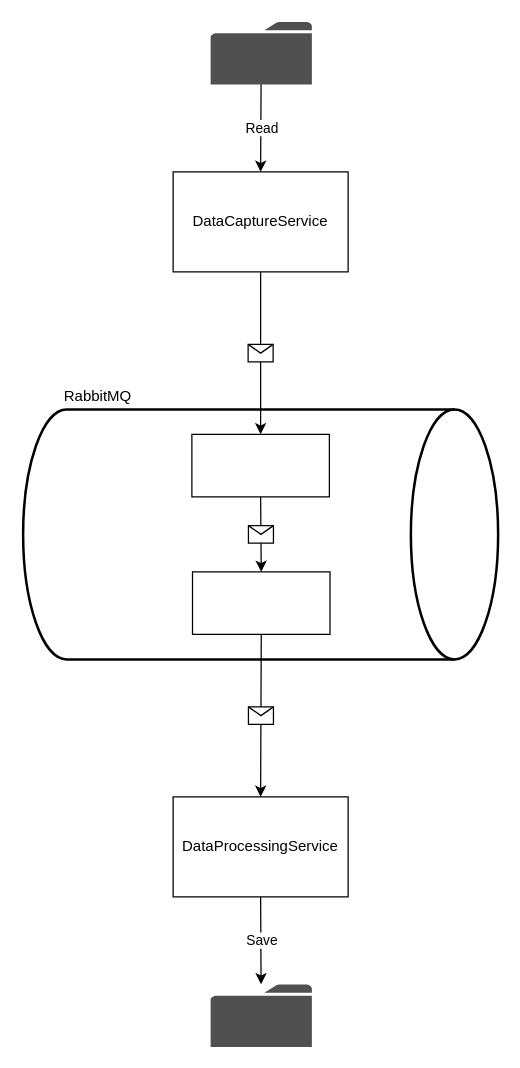
Some shapes in this 520 by 1068 pixel diagram are drawn without their labels. The shapes that lost their labels are listed below. From the top down, each one's centre as x and y in pixels, then its label:
At (x=260, y=465): "Exchange (Fanout)".
At (x=260, y=602): "Queue".
